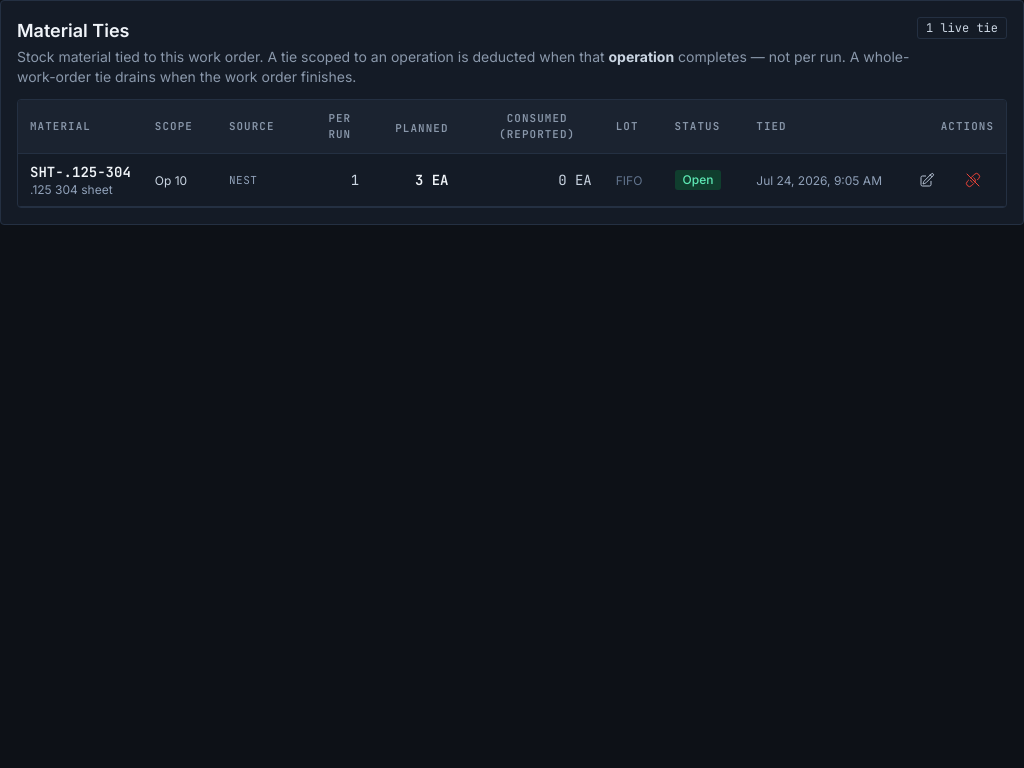
MaterialTiesPanel — gated mutations › PATCHes only what changed and surfaces the refusal inline on a rejection
Expected: the text "SHT-.125-304" is shown, [30, 162, 131, 182]
Click the button named "Edit the SHT-.125-304 tie".
click(927, 180)  # box [906, 164, 948, 196]
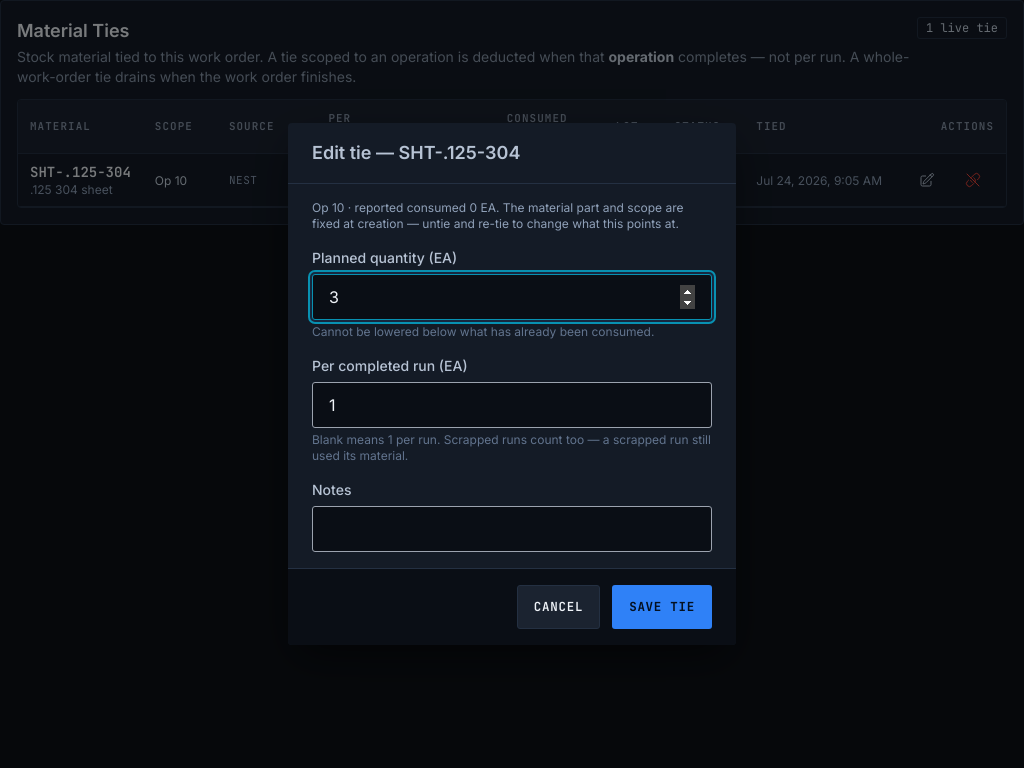
Replace the text in the number field labelled "Planned quantity (EA)" with "1" at (512, 297), box [312, 274, 712, 320]
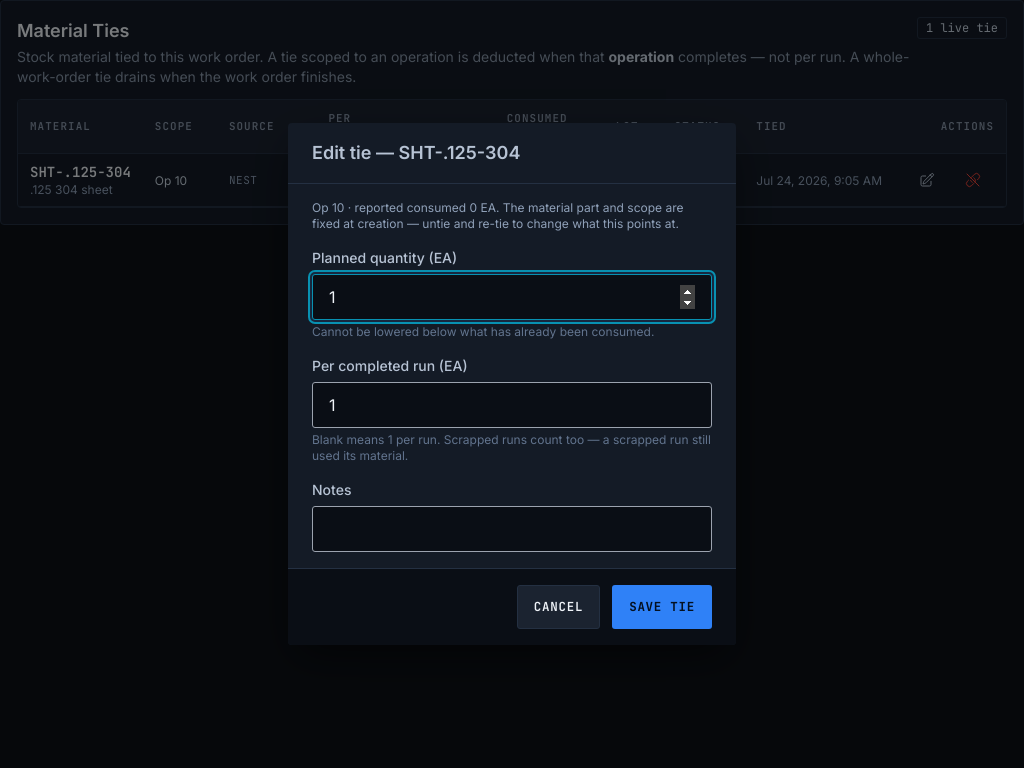
Click the button "Save tie".
click(662, 607)  # box [612, 585, 712, 629]
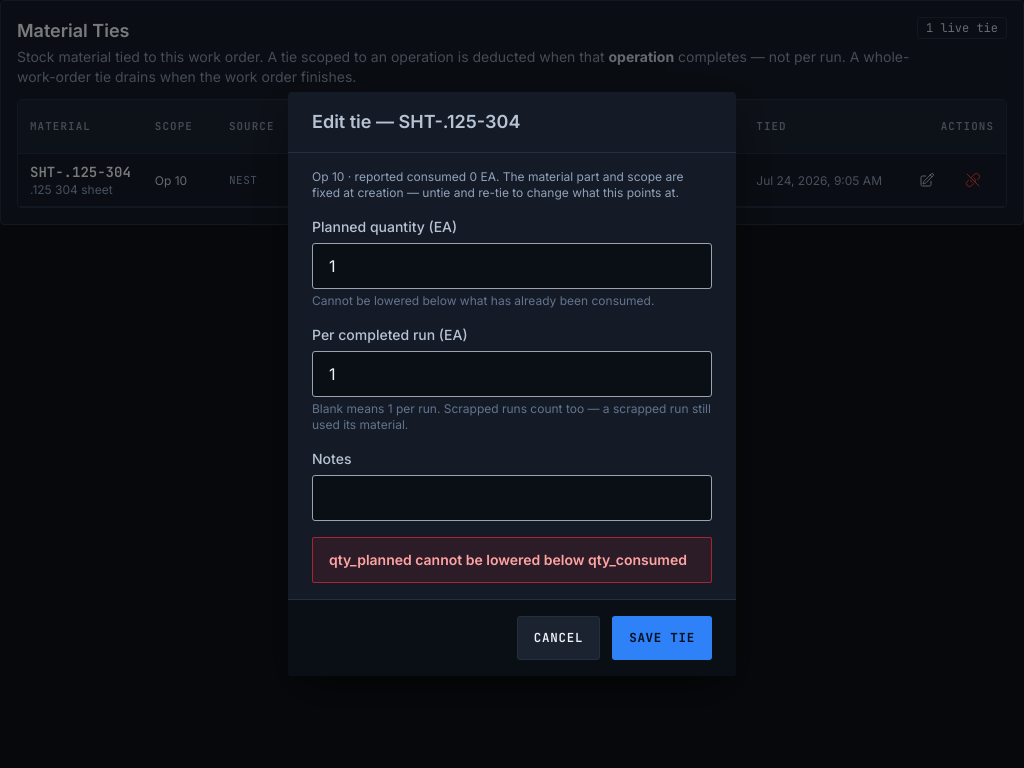
Expected: the button "Save tie" is shown, [612, 616, 712, 660]
Expected: the message with test id "wo-tie-edit-error" reads "qty_planned cannot be lowered below qty_consumed", [329, 551, 687, 568]
